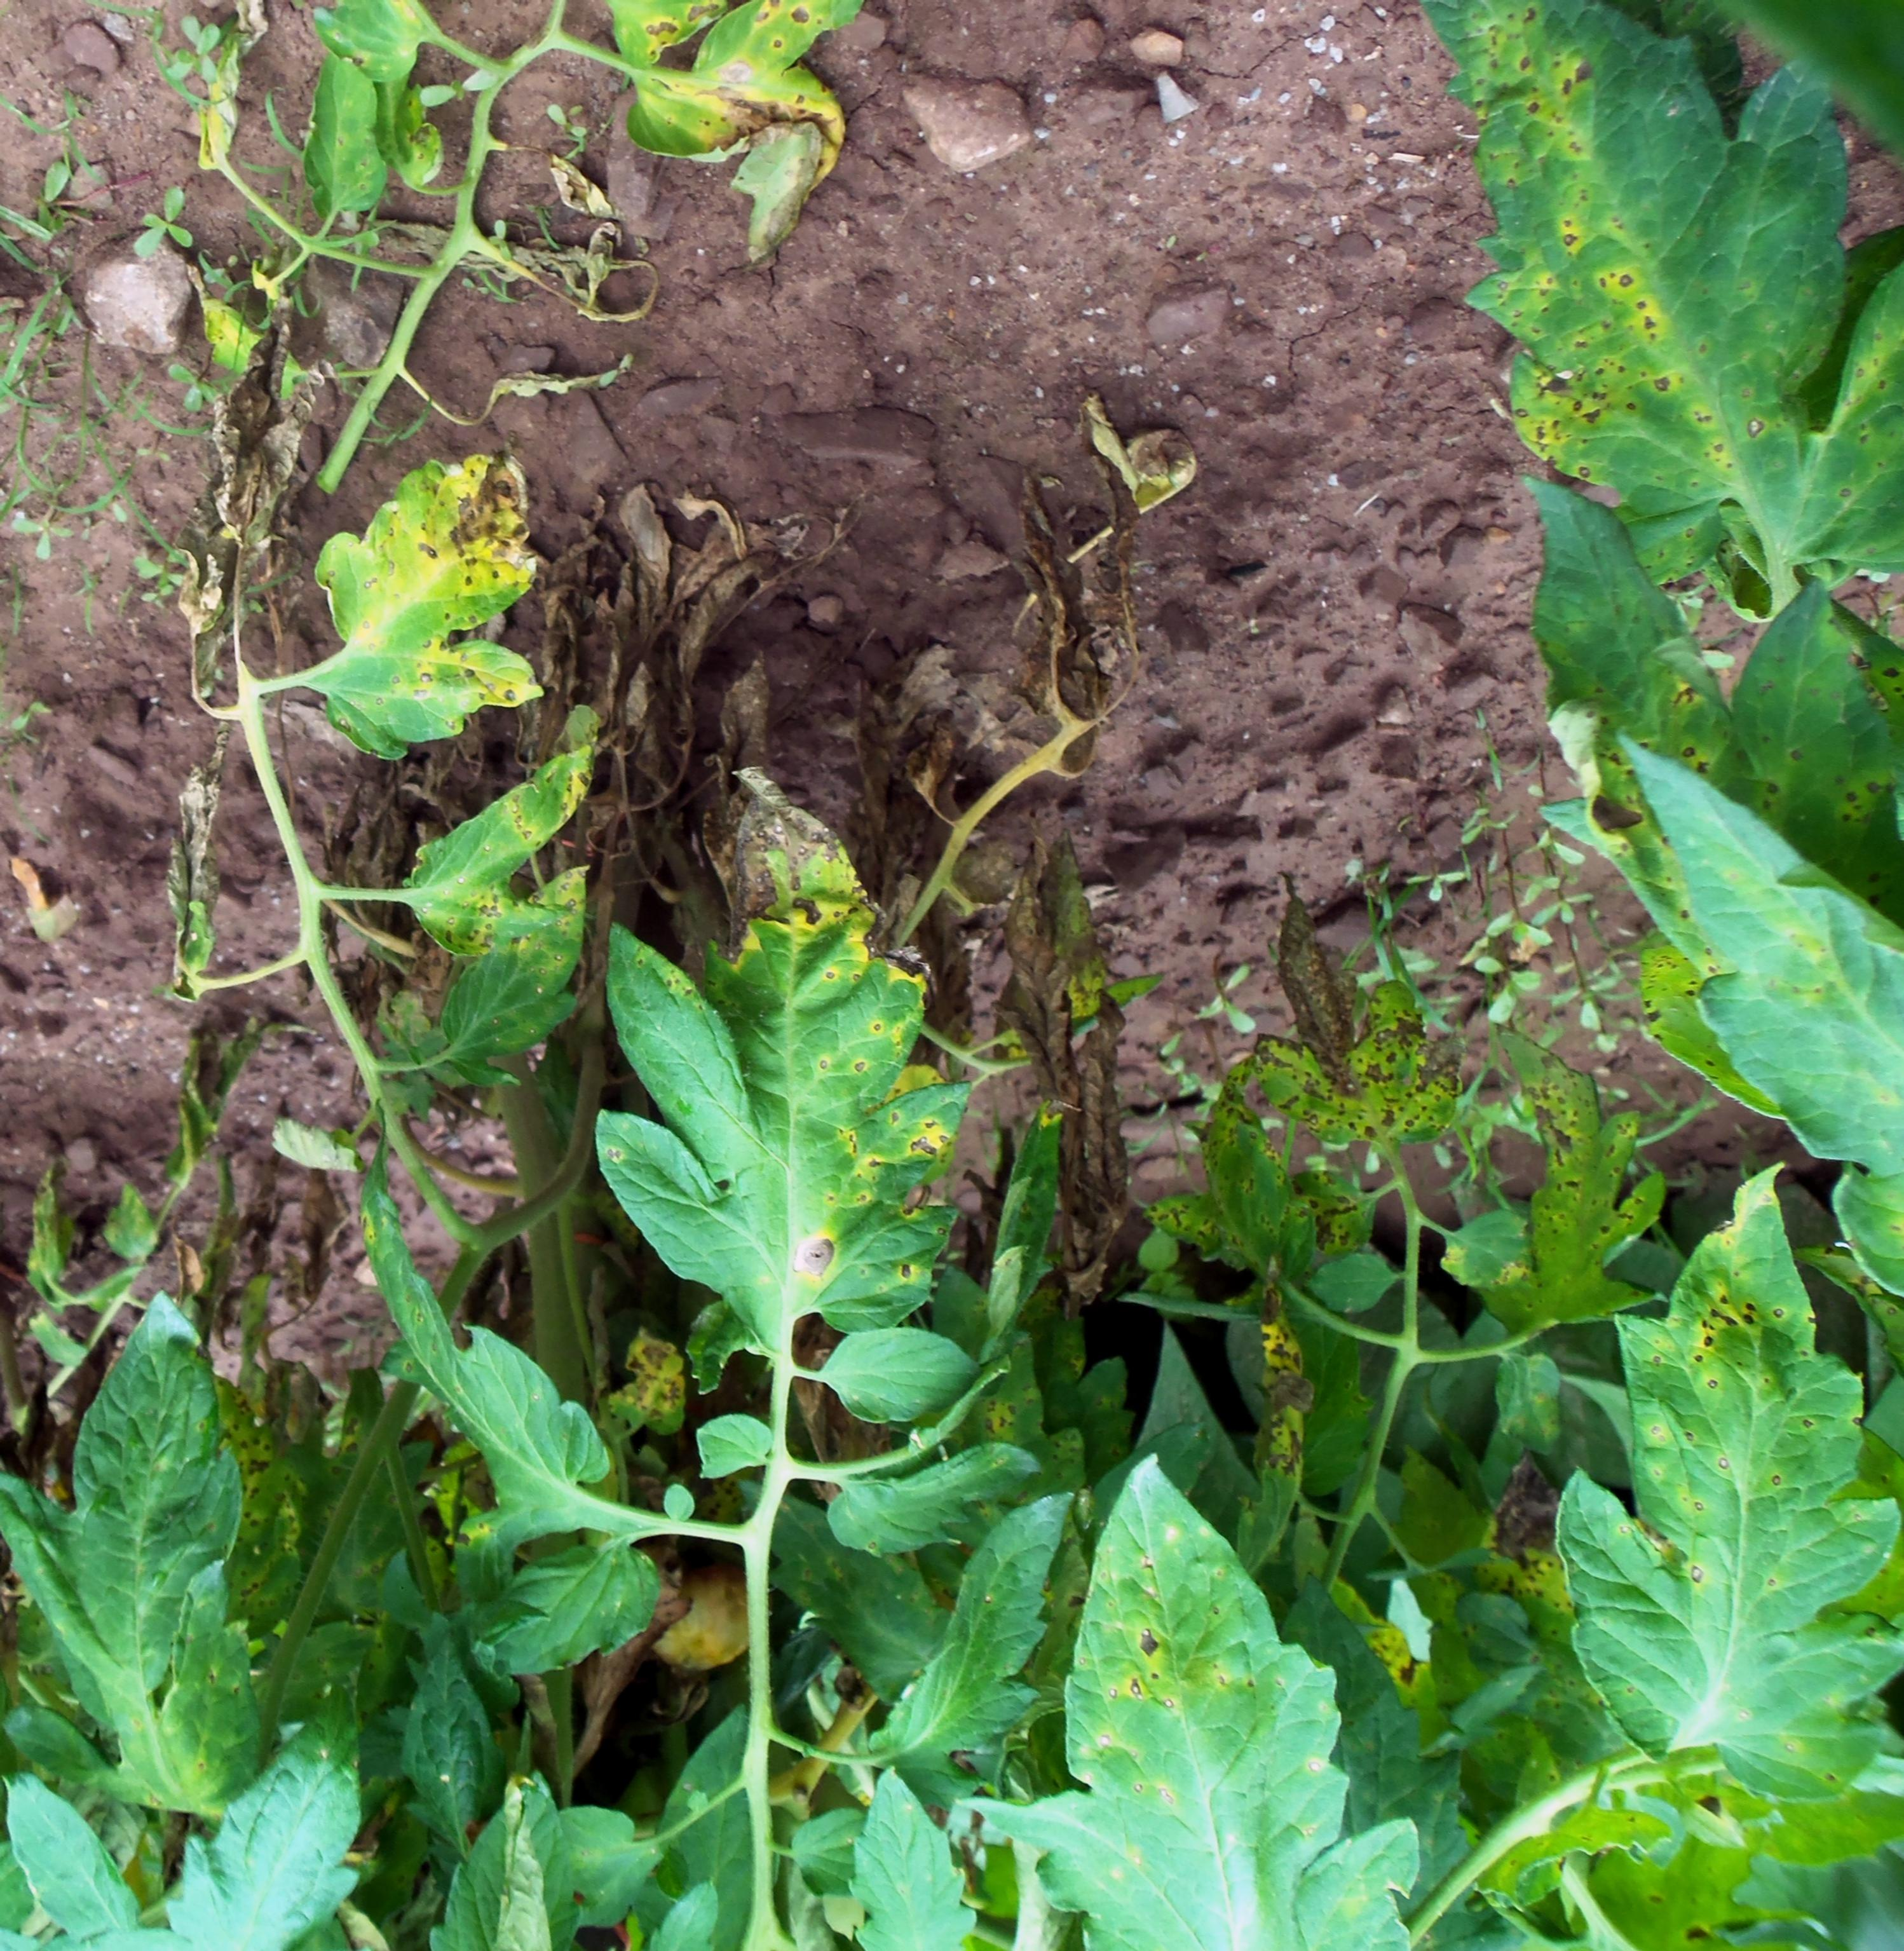Tomato Septoria leaf spot: (1414, 0, 1838, 608), (1531, 1152, 1902, 1763), (602, 788, 976, 1372), (1015, 1419, 1414, 1934), (284, 441, 556, 769), (406, 748, 596, 931)
